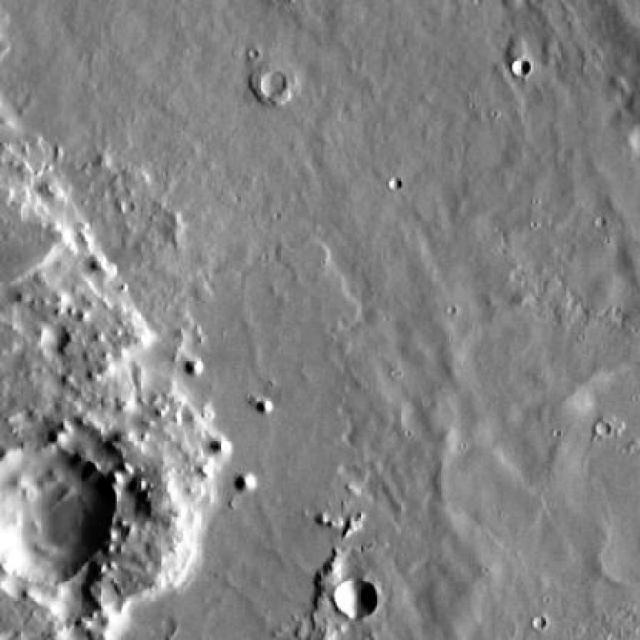crater: (0, 444, 112, 583), (551, 364, 640, 533), (597, 516, 640, 573), (562, 511, 604, 552), (332, 577, 374, 617), (33, 322, 65, 352), (257, 72, 285, 100), (512, 57, 532, 75)
